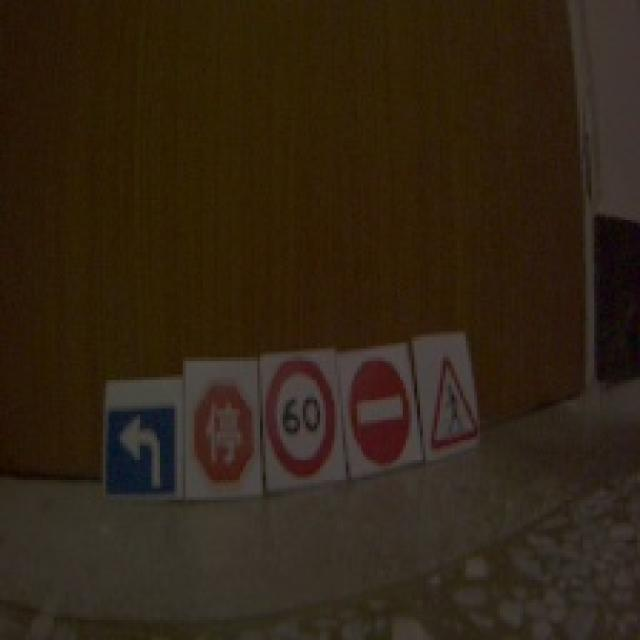DoNotEnterSign: (350, 353, 415, 469)
